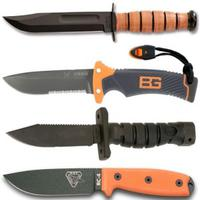knife: (2, 108, 200, 160), (1, 63, 198, 102), (1, 6, 197, 40), (3, 166, 193, 200)
